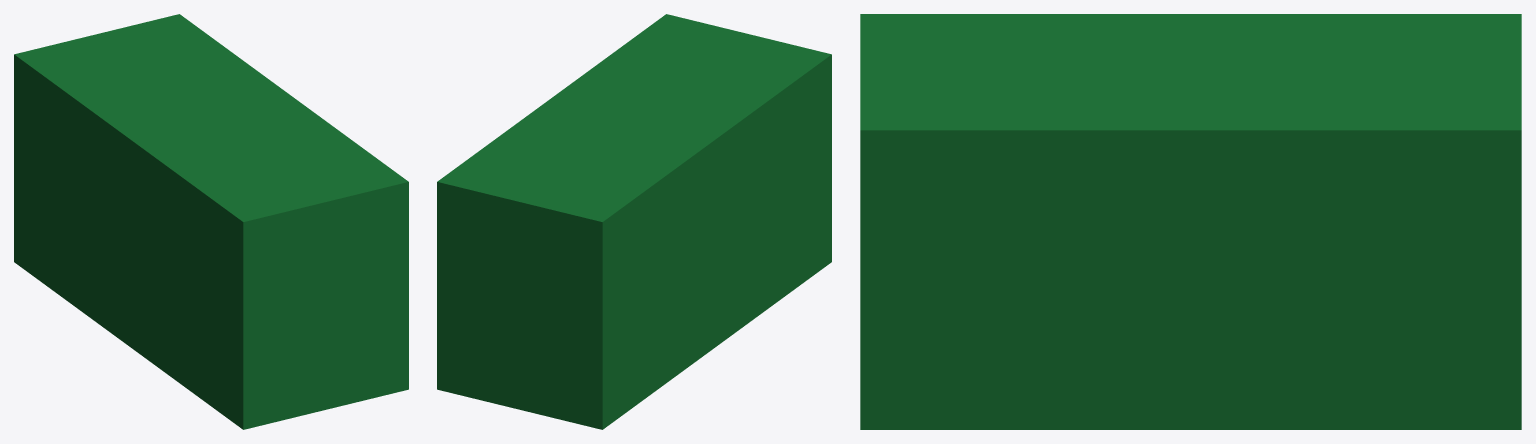
Rendered from Bushes.FBX.
3 views of the same model, side by side, from view 1: azimuth 30°, elevation 25°; view 2: azimuth 150°, elevation 25°; view 3: azimuth 270°, elevation 25° (orthographic). The views are drawn at different scales.
Visible parts, largest first — view 1: Box001; view 2: Box001; view 3: Box001.
Part boxes in pixels (<box>): Box001: <box>14,14,408,429</box>; Box001: <box>437,14,831,429</box>; Box001: <box>860,14,1521,429</box>.
Size of the model in its own units: 50 by 120 by 60.
1 material, 1 textured.
